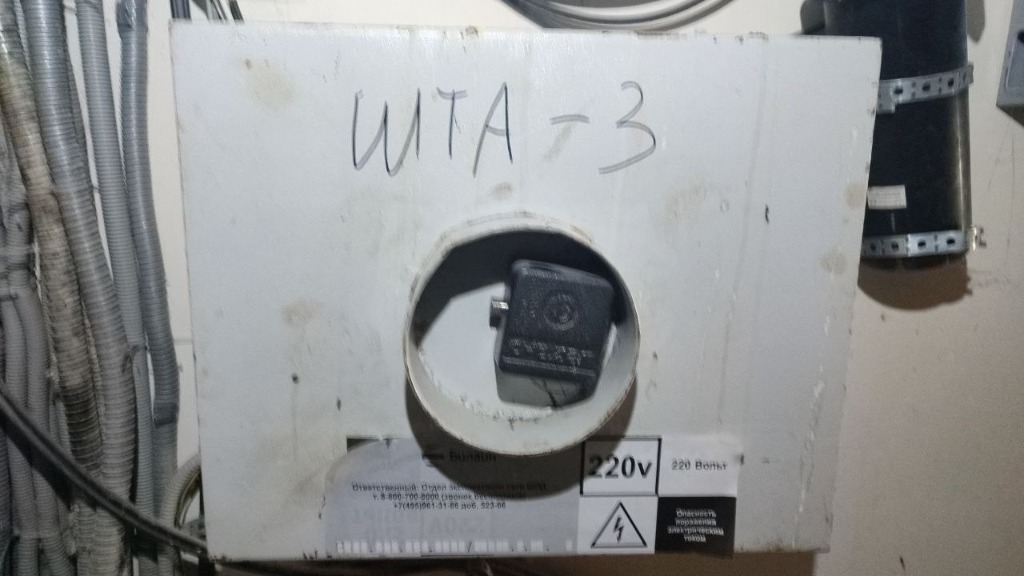shta-3: (164, 12, 890, 560)
